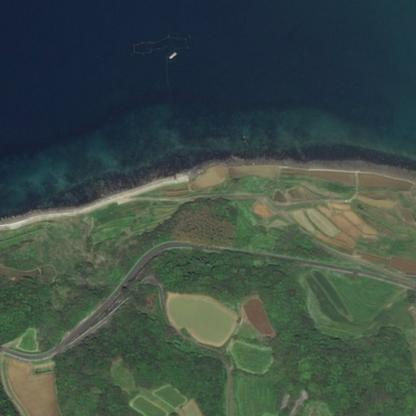ship: (164, 47, 180, 62)
